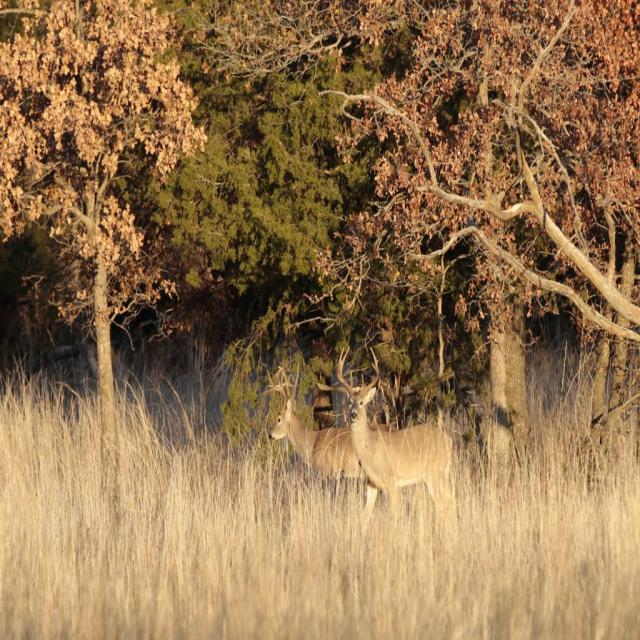Deer: (334, 343, 455, 540), (261, 363, 399, 485)
